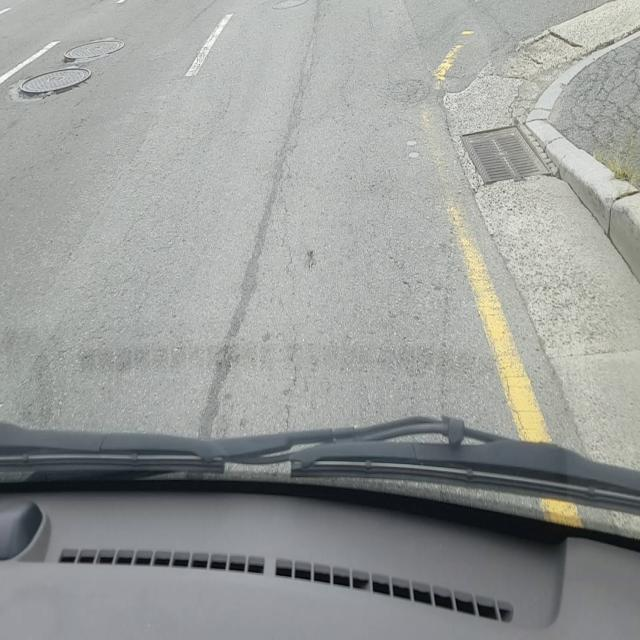Pothole: (16, 65, 92, 102)
